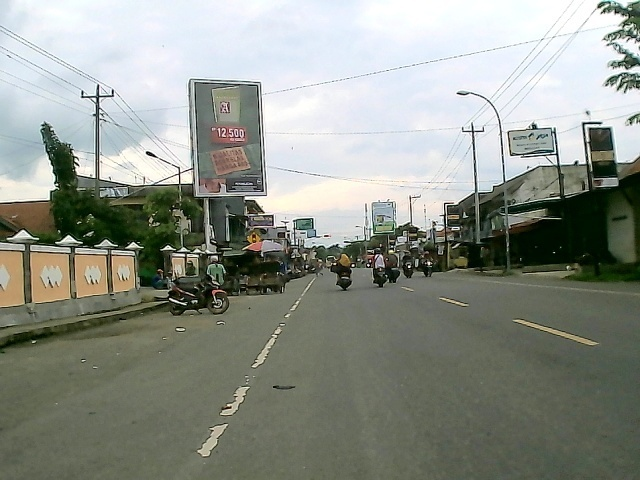Lampu isyarat: (244, 231, 261, 246)
